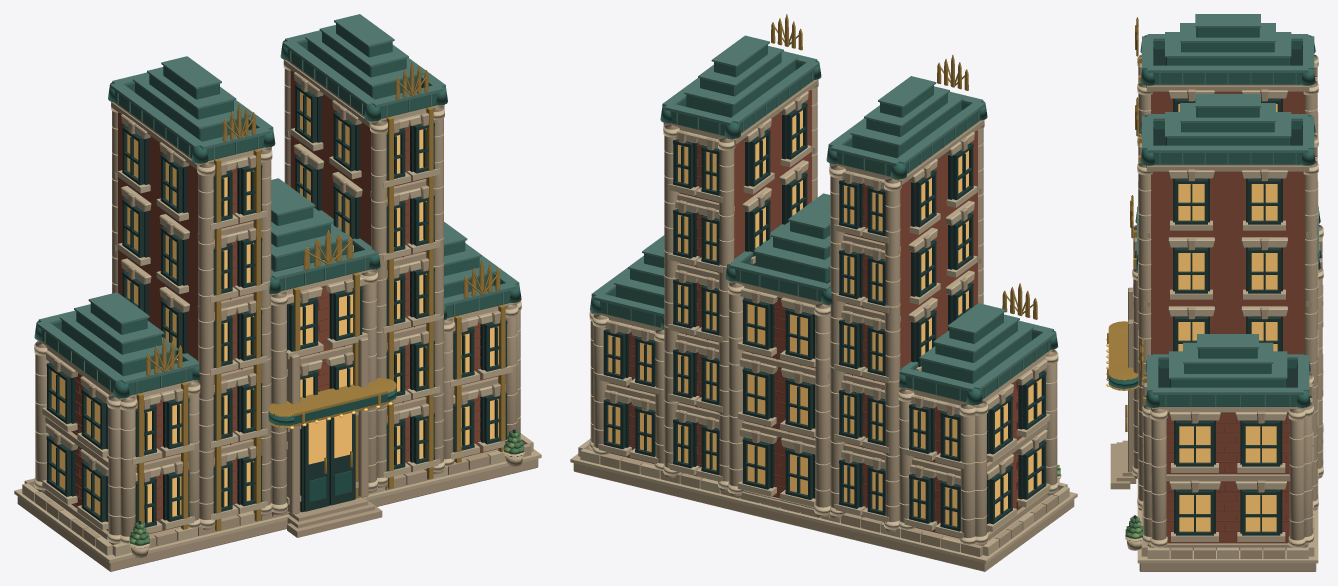
The picture shows the model from 3 angles, left to right: view 1: azimuth 30°, elevation 25°; view 2: azimuth 150°, elevation 25°; view 3: azimuth 270°, elevation 25°; orthographic projection. The views are drawn at different scales.
Parts seen in each view (by area): view 1: expansion_skyscraper_2_geometry; view 2: expansion_skyscraper_2_geometry; view 3: expansion_skyscraper_2_geometry.
Part boxes in pixels (x1,y1,x2,y2): expansion_skyscraper_2_geometry: [14, 14, 541, 571]; expansion_skyscraper_2_geometry: [570, 14, 1077, 571]; expansion_skyscraper_2_geometry: [1106, 14, 1323, 571].
Size of the model in its own units: 1.7 by 1.65 by 0.7821.
